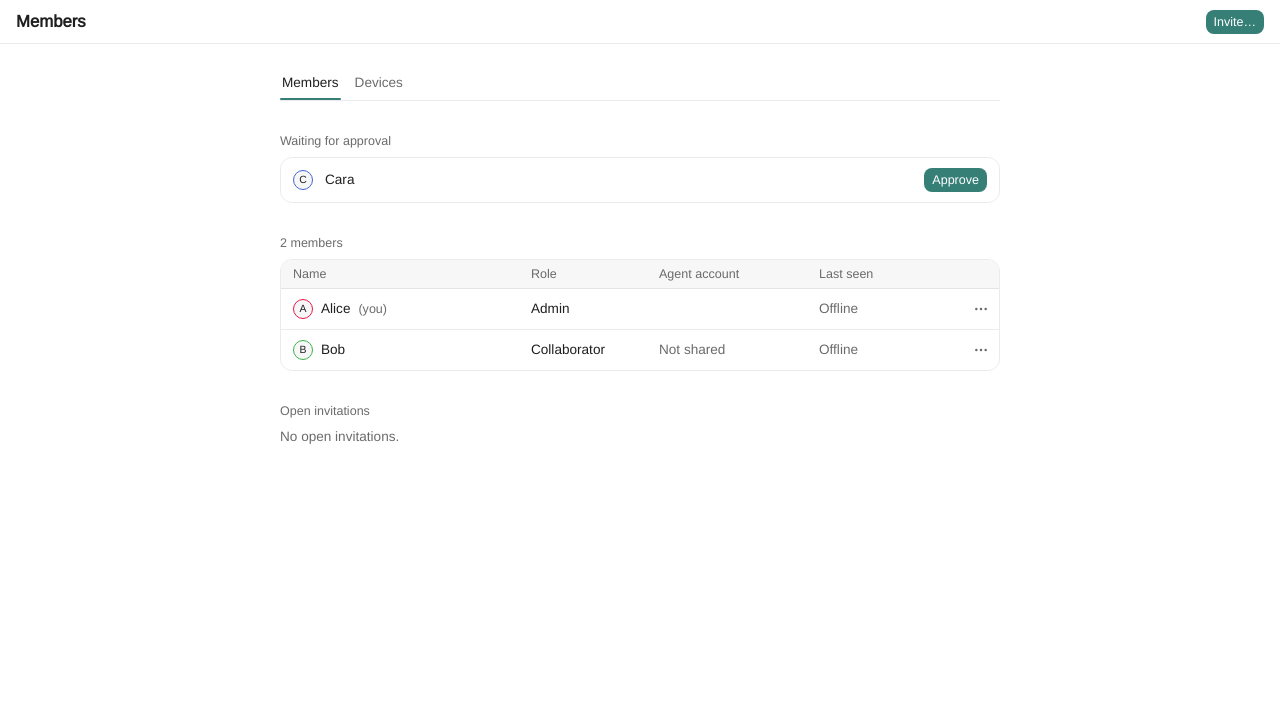
Test: members page › takes a refused approval back and renders the server refusal verbatim
The image size is (1280, 720).
Click the 2nd button named "Approve": point(956, 180) x1=924 y1=168 x2=987 y2=192
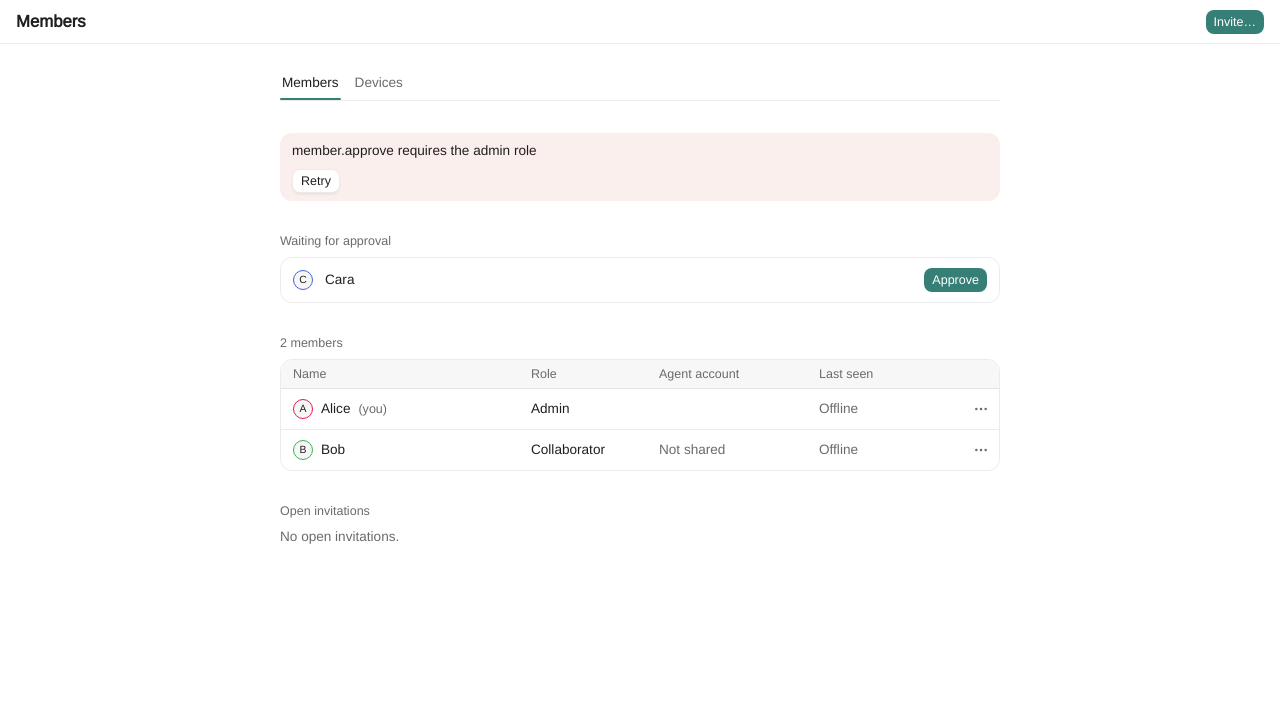
Check: the 3rd button named "Approve" is shown, box x1=924 y1=268 x2=987 y2=292
Check: the 1st text "member.approve requires the admin role" is shown, box x1=292 y1=142 x2=536 y2=159
